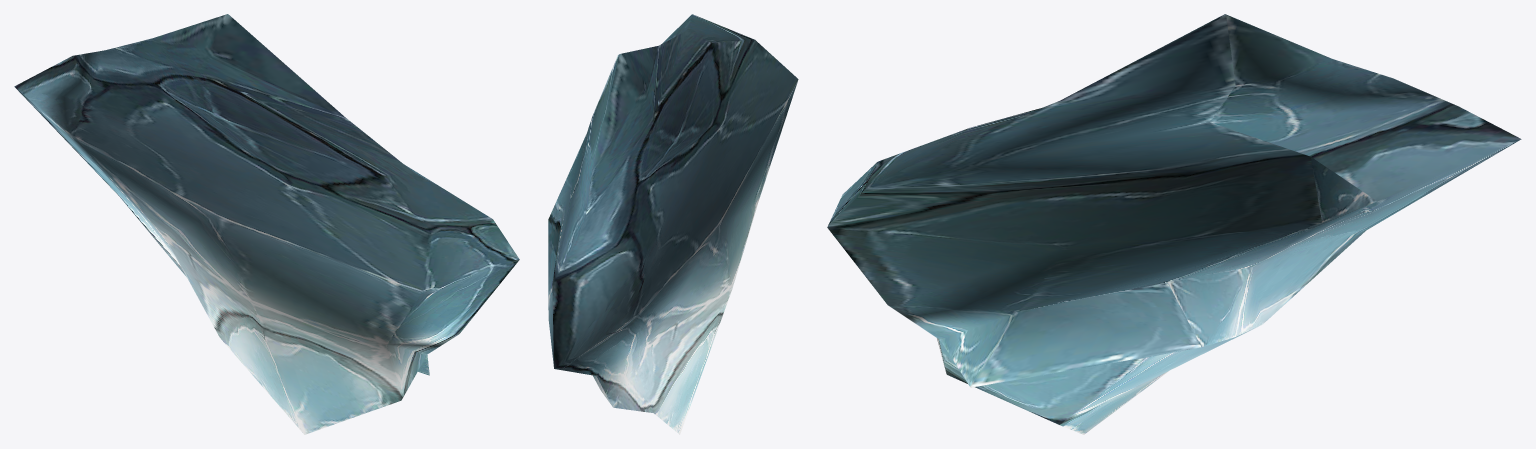
File: IceShard (1).fbx
The picture shows the model from 3 angles, left to right: view 1: azimuth 30°, elevation 25°; view 2: azimuth 150°, elevation 25°; view 3: azimuth 270°, elevation 25°; orthographic projection. The views are drawn at different scales.
Visible parts, largest first — view 1: ice (3); view 2: ice (3); view 3: ice (3).
Part boxes in pixels (left/top/right/bottom): ice (3): left=14, top=14, right=519, bottom=434; ice (3): left=548, top=14, right=798, bottom=434; ice (3): left=827, top=14, right=1521, bottom=434.
Size of the model in its own units: 2.14 by 3.94 by 5.99.
